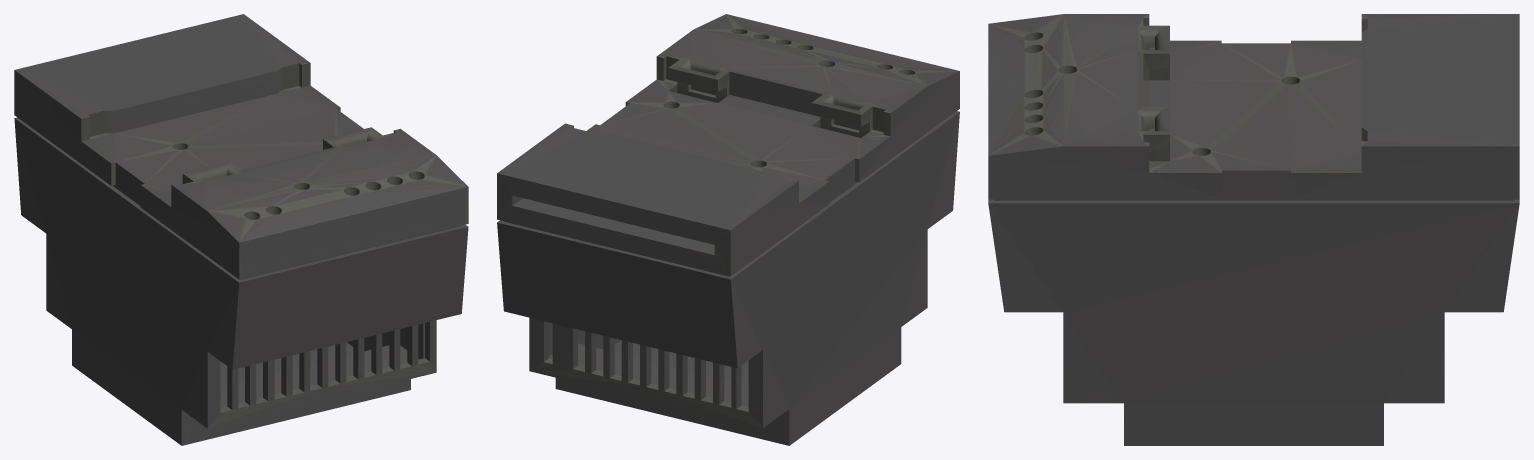
File: power_supply.glb
3 renders of one model, left to right at view 1: azimuth 30°, elevation 25°; view 2: azimuth 150°, elevation 25°; view 3: azimuth 270°, elevation 25°, orthographic. The views are drawn at different scales.
Visible parts, largest first — view 1: Mesh_1.003; view 2: Mesh_1.003; view 3: Mesh_1.003.
Boxes of the visible parts, x1,y1,x2,y2 form: Mesh_1.003: (14,14,468,445); Mesh_1.003: (497,14,959,445); Mesh_1.003: (988,14,1519,445).
Bounding box in the file's own units: 0.053 × 0.0564 × 0.09.
Materials: 5 (4 with a texture image).
